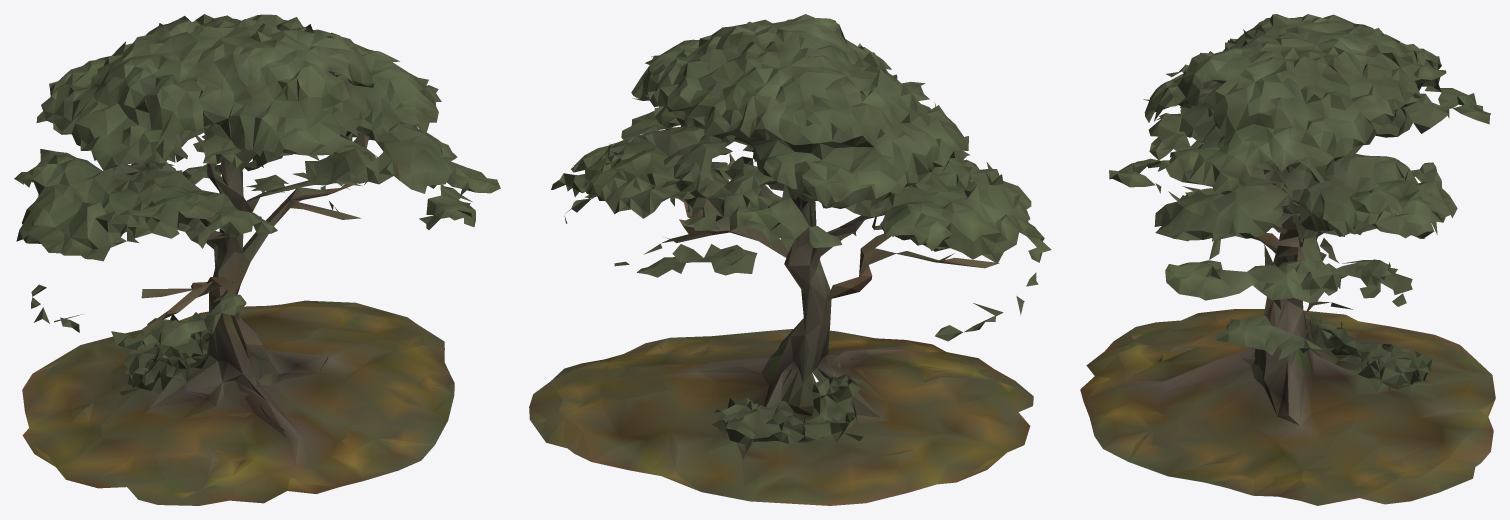
The model's file is lib_tp_thongcn.vc.glb.
The picture shows the model from 3 angles, left to right: view 1: azimuth 30°, elevation 25°; view 2: azimuth 150°, elevation 25°; view 3: azimuth 270°, elevation 25°; orthographic projection.
Parts seen in each view (by area): view 1: lib_tp_thongcn; view 2: lib_tp_thongcn; view 3: lib_tp_thongcn.
Boxes of the visible parts, x1=… form: lib_tp_thongcn: x1=14, y1=14, x2=500, y2=505; lib_tp_thongcn: x1=529, y1=14, x2=1051, y2=505; lib_tp_thongcn: x1=1080, y1=14, x2=1495, y2=505.
Bounding box in the file's own units: 1.93 × 1.55 × 1.58.
